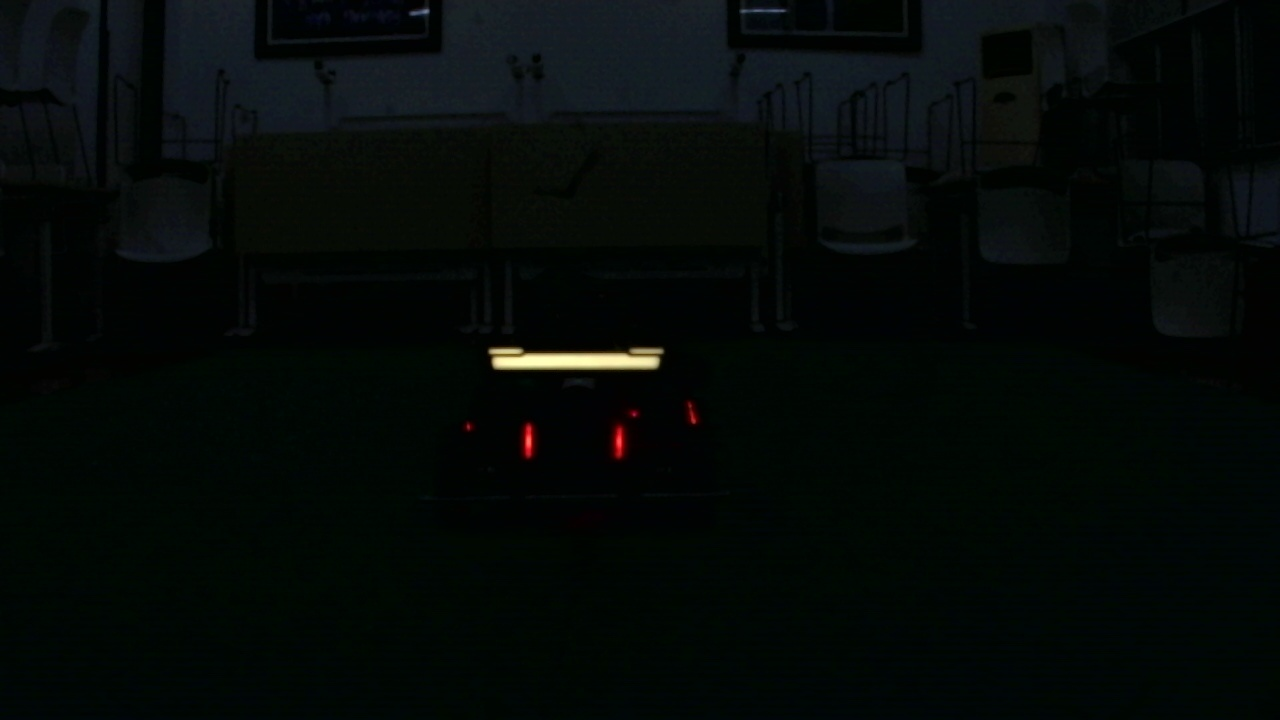lamp: (611, 423, 629, 463), (521, 419, 536, 460)
pair1: (523, 424, 626, 458)
